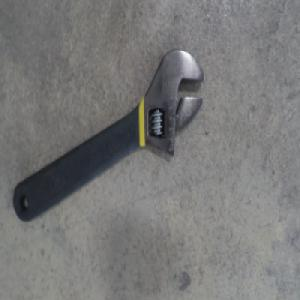AdjustableWrench: (12, 48, 203, 223)
